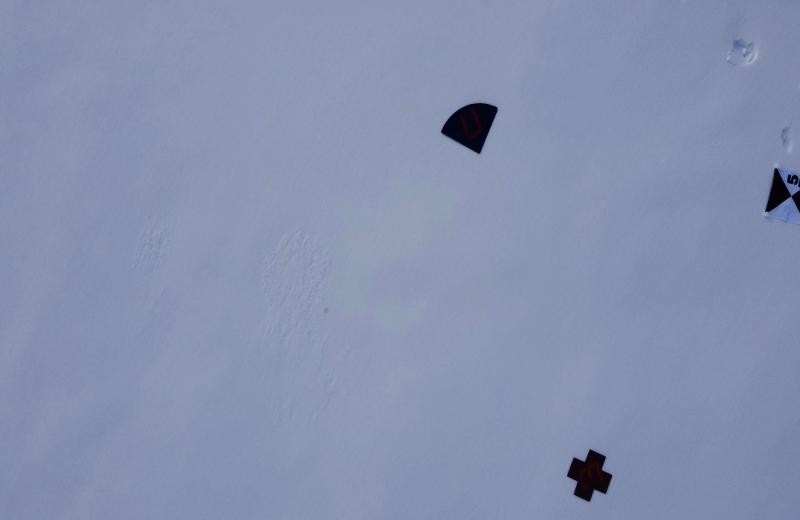Cross: (568, 447, 615, 502)
Quarter Circle: (442, 102, 499, 158)
